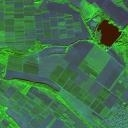alloviz: (95, 18, 122, 47)
